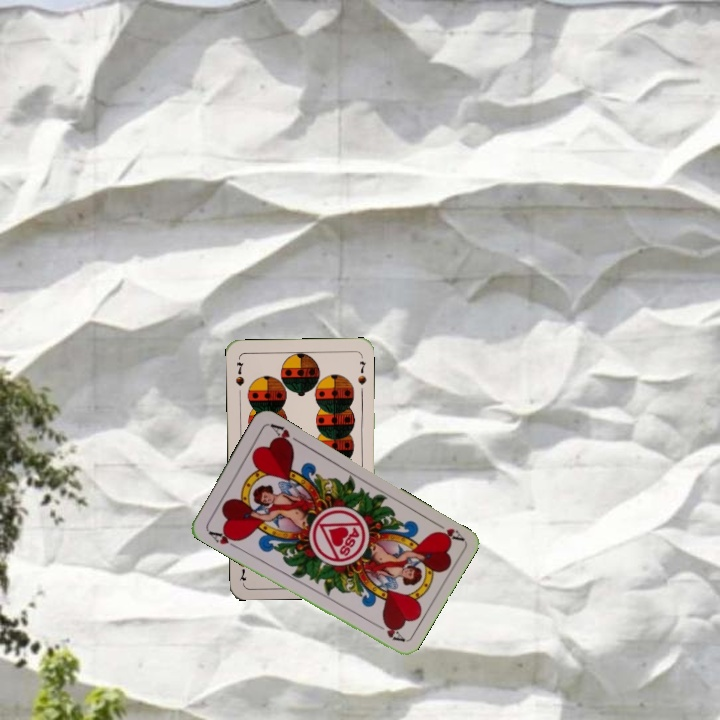HA: (428, 517, 465, 545), (203, 525, 242, 551)
S7: (232, 358, 247, 389)
